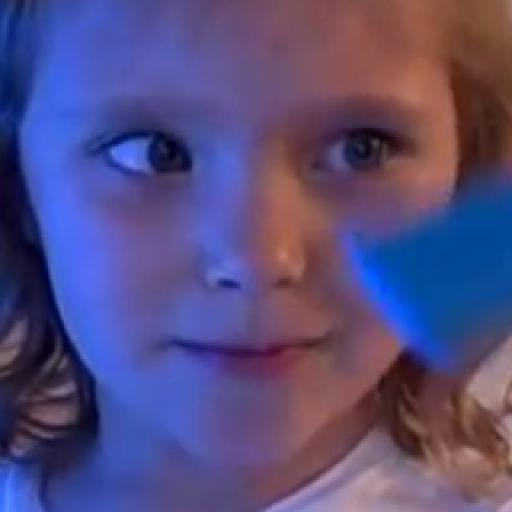Autism: (38, 22, 427, 485)
